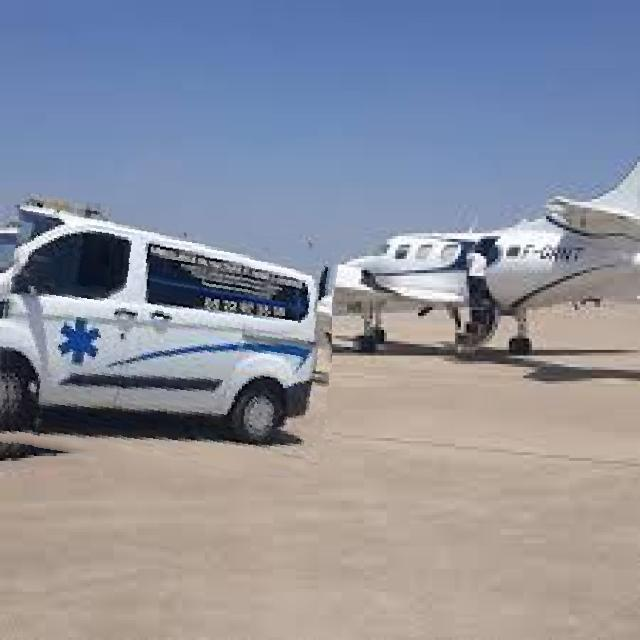ambulance: (0, 203, 332, 478)
